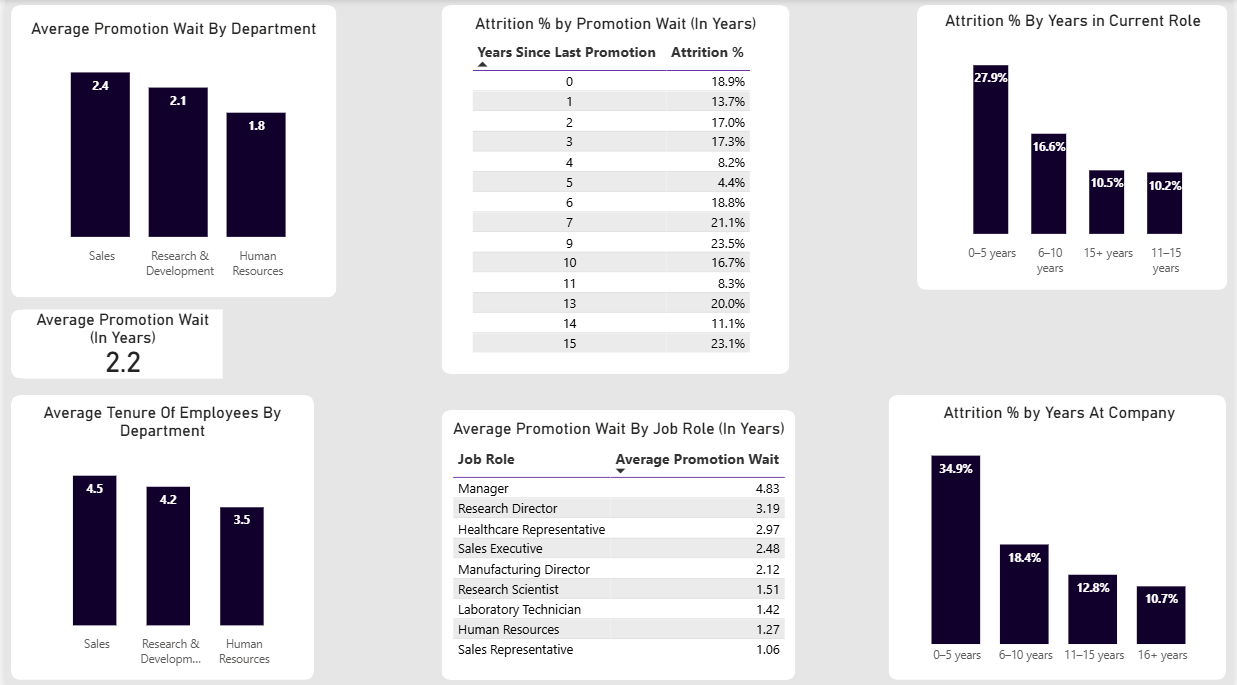

Layout of this report page (visuals, bound fields, positions):
{"tool":"powerbi","page":{"name":"Career Growth ","canvas":[1280,720],"ordinal":2},"visuals":[{"type":"shape","box":[6.3,323.5,218.8,71.9],"z":0},{"type":"shape","box":[920.7,413.1,351.7,297],"z":1000},{"type":"shape","box":[454.8,6.3,362.6,384.5],"z":2000},{"type":"shape","box":[950.3,6.3,323.5,297],"z":3000},{"type":"shape","box":[6.3,412.6,315.7,297],"z":4000},{"type":"shape","box":[454.8,428.3,368.9,281.3],"z":5000},{"type":"shape","box":[6.3,6.3,339.2,304.8],"z":6000},{"type":"tableEx","title":"Attrition % by Promotion Wait (In Years)","fields":{"Values":["HR Analytics Data.Years Since Last Promotion","Dax.Attrition %"]},"box":[481.4,15.6,309.5,367.3],"z":7000},{"type":"columnChart","title":"Average Promotion Wait By Department","fields":{"Category":["HR Analytics Data.Department"],"Y":["Dax 2.Avg_promotion_wait"]},"box":[18.8,20.3,314.2,278.2],"z":8000},{"type":"tableEx","title":"Average Promotion Wait By Job Role (In Years)","fields":{"Values":["HR Analytics Data.Job Role","Dax 2.Avg_promotion_wait"]},"box":[461.1,437.6,356.4,262.6],"z":9000},{"type":"card","title":"Average Promotion Wait (In Years)","fields":{"Values":["Dax 2.Avg_promotion_wait"]},"box":[18.8,323.5,207.9,71.9],"z":10000},{"type":"columnChart","title":"Average Tenure Of Employees By Department","fields":{"Y":["Dax 2.Average Tenure"],"Category":["HR Analytics Data.Department"]},"box":[18.8,420.4,290.7,282.9],"z":11000},{"type":"columnChart","title":"Attrition % By Years in Current Role","fields":{"Category":["HR Analytics Data.Years in Role_Bucket"],"Y":["Dax.Attrition %"]},"box":[967.5,12.5,290.7,282.9],"z":12000},{"type":"columnChart","fields":{"Category":["HR Analytics Data.Years At Company (Bin)"],"Y":["Dax.Attrition %"]},"box":[931.6,421,334.5,281.3],"z":13000}]}

Visuals, with their boxes in screenshot pixels (x1, y1, x2, y2), scaled from the page's 1280x720 canvas onto the 1237x685 screenshot:
shape: (left=6, top=308, right=218, bottom=376)
shape: (left=890, top=393, right=1230, bottom=676)
shape: (left=440, top=6, right=790, bottom=372)
shape: (left=918, top=6, right=1231, bottom=289)
shape: (left=6, top=393, right=311, bottom=675)
shape: (left=440, top=407, right=796, bottom=675)
shape: (left=6, top=6, right=334, bottom=296)
"Attrition % by Promotion Wait (In Years)" tableEx: (left=465, top=15, right=764, bottom=364)
"Average Promotion Wait By Department" columnChart: (left=18, top=19, right=322, bottom=284)
"Average Promotion Wait By Job Role (In Years)" tableEx: (left=446, top=416, right=790, bottom=666)
"Average Promotion Wait (In Years)" card: (left=18, top=308, right=219, bottom=376)
"Average Tenure Of Employees By Department" columnChart: (left=18, top=400, right=299, bottom=669)
"Attrition % By Years in Current Role" columnChart: (left=935, top=12, right=1216, bottom=281)
columnChart - HR Analytics Data.Years At Company (Bin) x Dax.Attrition %: (left=900, top=401, right=1224, bottom=668)
